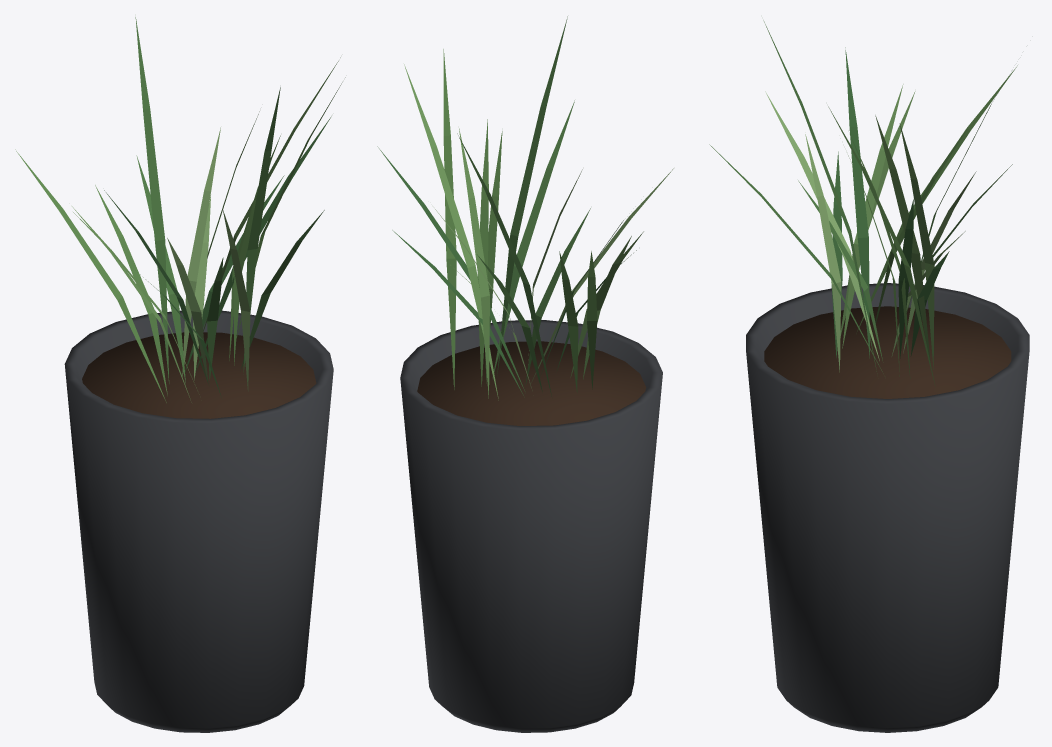
The model's file is i_plant_13.glb.
3 views of the same model, side by side, from view 1: azimuth 30°, elevation 25°; view 2: azimuth 150°, elevation 25°; view 3: azimuth 270°, elevation 25° (orthographic). The views are drawn at different scales.
Visible parts, largest first — view 1: o, o.001, o.017, o.012, o.016, o.008, o.021, o.018, o.007, o.006, o.011, o.002 (+7 smaller); view 2: o, o.001, o.003, o.012, o.004, o.014, o.002, o.017, o.013, o.023, o.018, o.008 (+6 smaller); view 3: o, o.001, o.010, o.021, o.004, o.014, o.009, o.011, o.003, o.012, o.015, o.008 (+8 smaller).
Boxes of the visible parts, <box> form: o: <box>64,310,333,732</box>; o.001: <box>82,332,316,418</box>; o.017: <box>135,17,169,383</box>; o.012: <box>243,87,280,374</box>; o.016: <box>182,127,220,376</box>; o.008: <box>15,149,166,402</box>; o.021: <box>222,209,250,391</box>; o.018: <box>95,185,167,395</box>; o.007: <box>136,155,185,383</box>; o.006: <box>193,196,210,380</box>; o.011: <box>167,238,207,380</box>; o.002: <box>240,210,324,371</box>; o: <box>400,320,662,732</box>; o.001: <box>417,341,646,425</box>; o.003: <box>443,49,456,389</box>; o.012: <box>497,16,567,375</box>; o.004: <box>404,64,498,400</box>; o.014: <box>459,128,489,398</box>; o.002: <box>492,100,574,378</box>; o.017: <box>457,133,551,396</box>; o.013: <box>477,119,488,386</box>; o.023: <box>485,131,502,383</box>; o.018: <box>559,251,578,392</box>; o.008: <box>587,251,597,389</box>; o: <box>746,283,1029,732</box>; o.001: <box>764,306,1011,398</box>; o.010: <box>845,47,869,358</box>; o.021: <box>805,134,841,372</box>; o.004: <box>875,115,930,362</box>; o.014: <box>899,123,934,369</box>; o.009: <box>842,84,903,348</box>; o.011: <box>765,91,879,360</box>; o.003: <box>828,106,935,385</box>; o.012: <box>763,20,877,373</box>; o.015: <box>898,199,913,358</box>; o.008: <box>856,65,1017,333</box>.
Size of the model in its own units: 0.3476 by 0.7941 by 0.3483.
